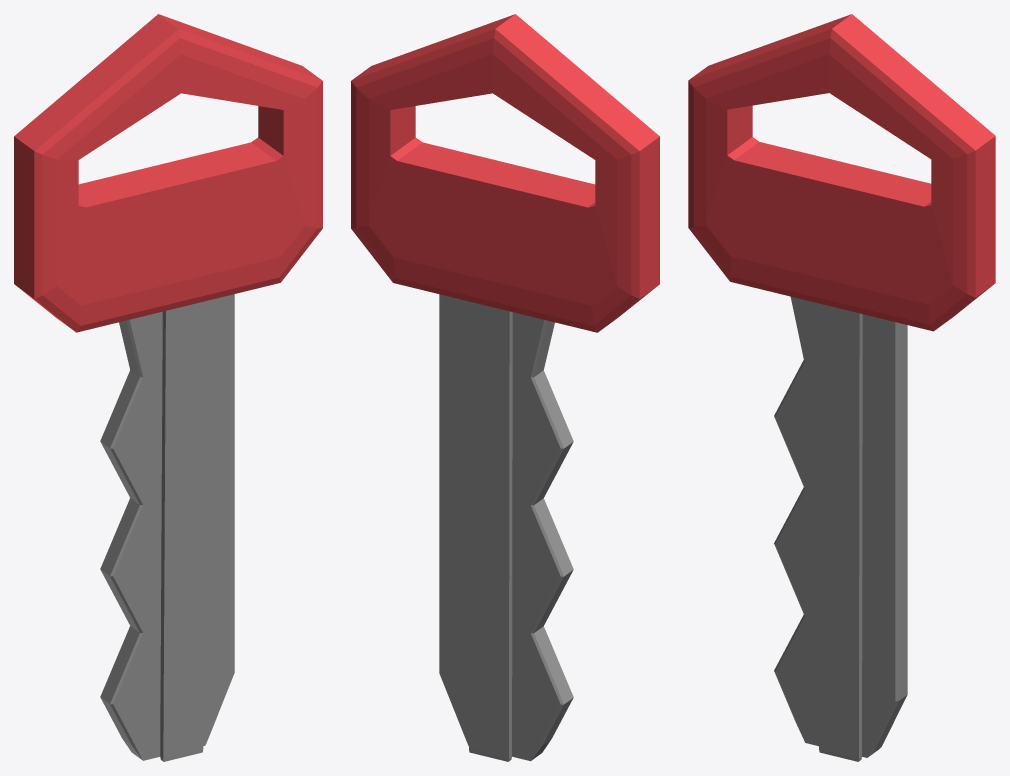
Rendered from Llave02.fbx.
3 renders of one model, left to right at view 1: azimuth 30°, elevation 25°; view 2: azimuth 150°, elevation 25°; view 3: azimuth 330°, elevation 25°, orthographic.
Visible parts, largest first — view 1: Llave02; view 2: Llave02; view 3: Llave02.
Part boxes in pixels (<box>): Llave02: <box>14,14,322,761</box>; Llave02: <box>351,14,659,761</box>; Llave02: <box>688,14,995,761</box>.
Bounding box in the file's own units: 5.84 × 14.14 × 0.8918.
